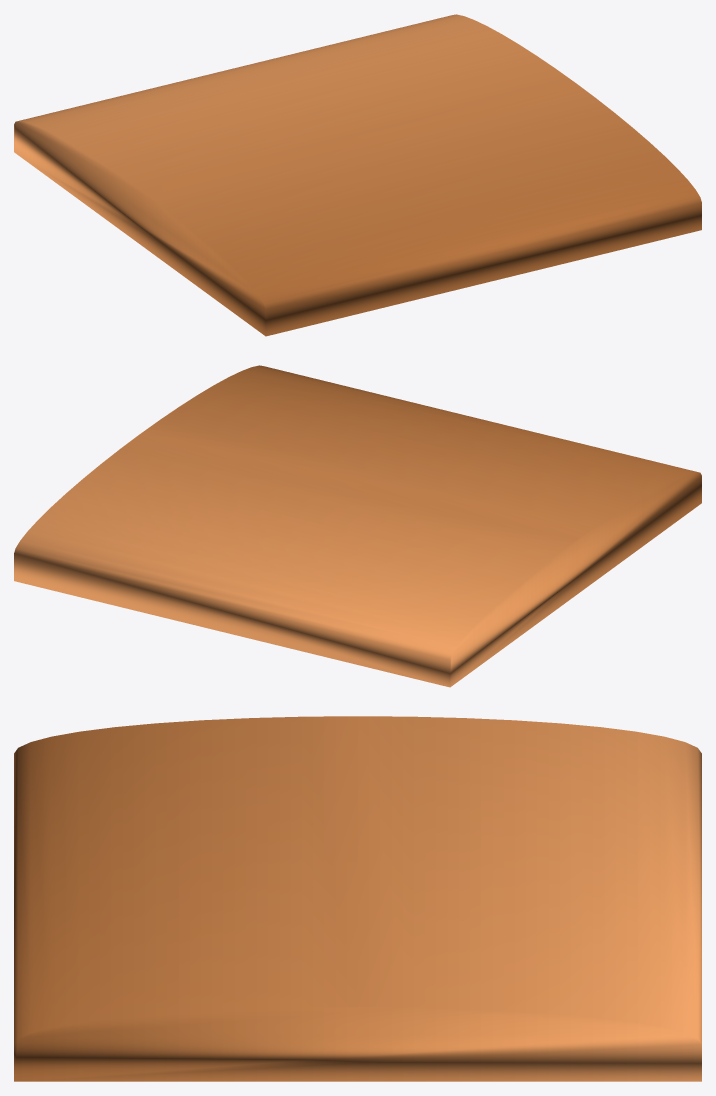
Rendered from plank.glb.
3 views of the same model, one above another, from view 1: azimuth 30°, elevation 25°; view 2: azimuth 150°, elevation 25°; view 3: azimuth 270°, elevation 25° (orthographic). The views are drawn at different scales.
Parts seen in each view (by area): view 1: Cube; view 2: Cube; view 3: Cube.
Boxes of the visible parts, x1=… form: Cube: x1=14, y1=14, x2=701, y2=336; Cube: x1=14, y1=365, x2=701, y2=687; Cube: x1=14, y1=716, x2=701, y2=1081.
Size of the model in its own units: 0.8 by 0.096 by 0.8.
Materials: 1 (1 with a texture image).
